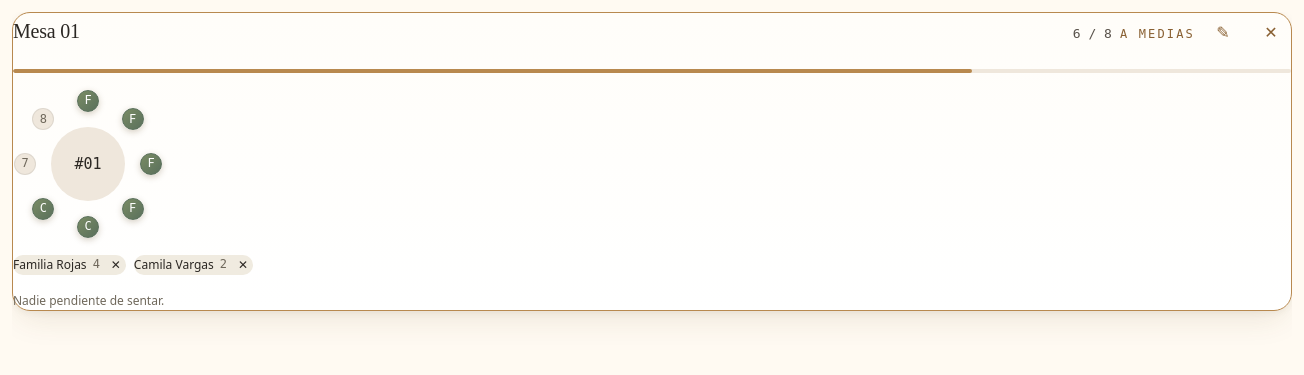
TableCard › borrar la mesa avisa de que los grupos quedarán sin sitio
# Dos clics: el aspa pregunta y «Borrar» confirma.
Click the button named "eliminar mesa".
click(1271, 33)  # box [1251,13,1291,53]
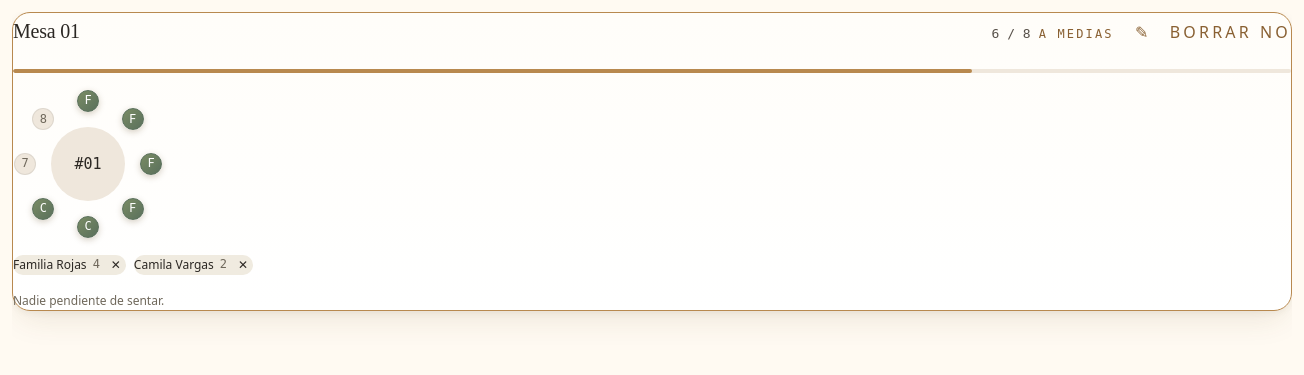
Click the button "Borrar".
click(1211, 33)  # box [1170,20,1252,46]
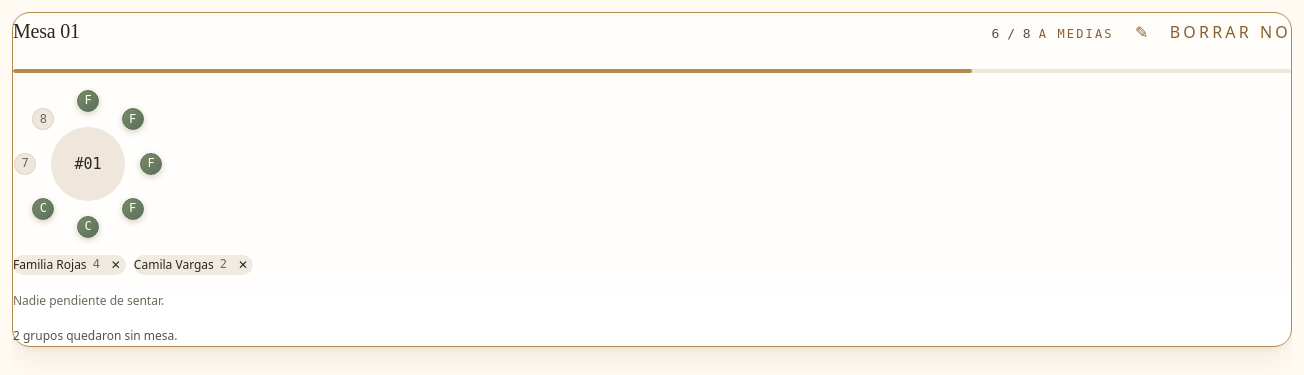
Now the message reads "2 grupos quedaron sin mesa.", box [13,327,178,344]
